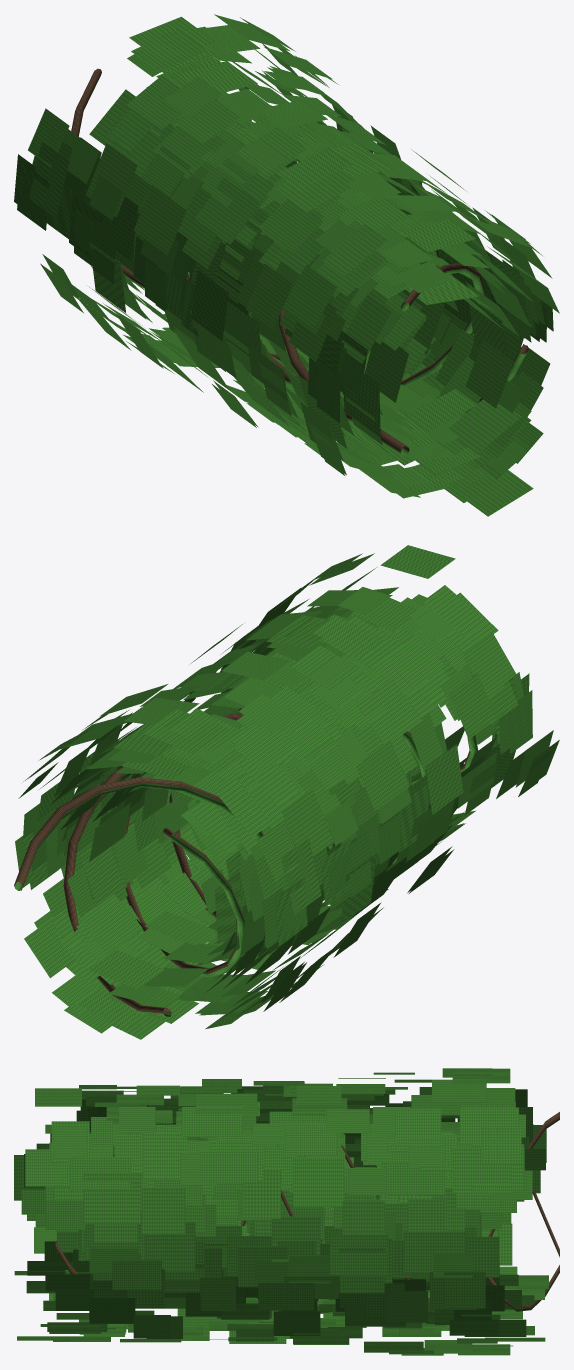
Rendered from veg_vine_bougainvillea_01.obj.
The picture shows the model from 3 angles, top to bottom: view 1: azimuth 30°, elevation 25°; view 2: azimuth 150°, elevation 25°; view 3: azimuth 270°, elevation 25°; orthographic projection. The views are drawn at different scales.
Visible parts, largest first — view 1: veg_vine_bougainvillea_01; view 2: veg_vine_bougainvillea_01; view 3: veg_vine_bougainvillea_01.
Part boxes in pixels (x1,y1,x2,y2): veg_vine_bougainvillea_01: (14, 14, 559, 516); veg_vine_bougainvillea_01: (14, 545, 559, 1039); veg_vine_bougainvillea_01: (14, 1068, 559, 1355).
Bounding box in the file's own units: 1.27 × 1.26 × 2.4.
1 material, 1 textured.
